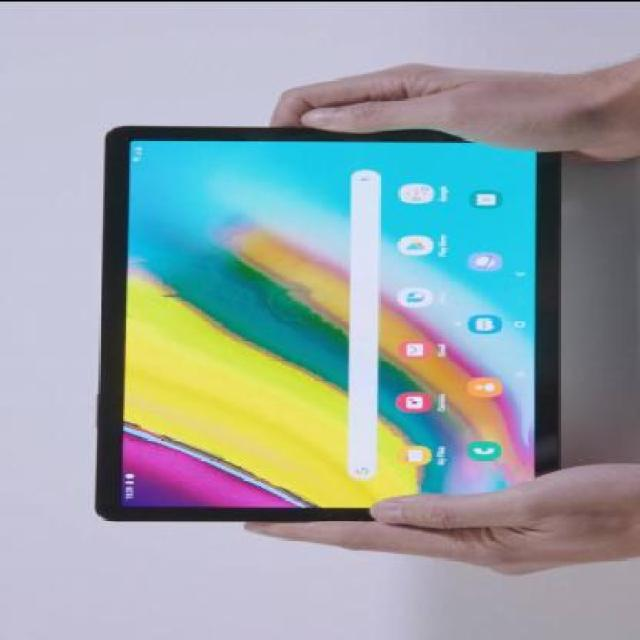tablet: (71, 114, 618, 563)
